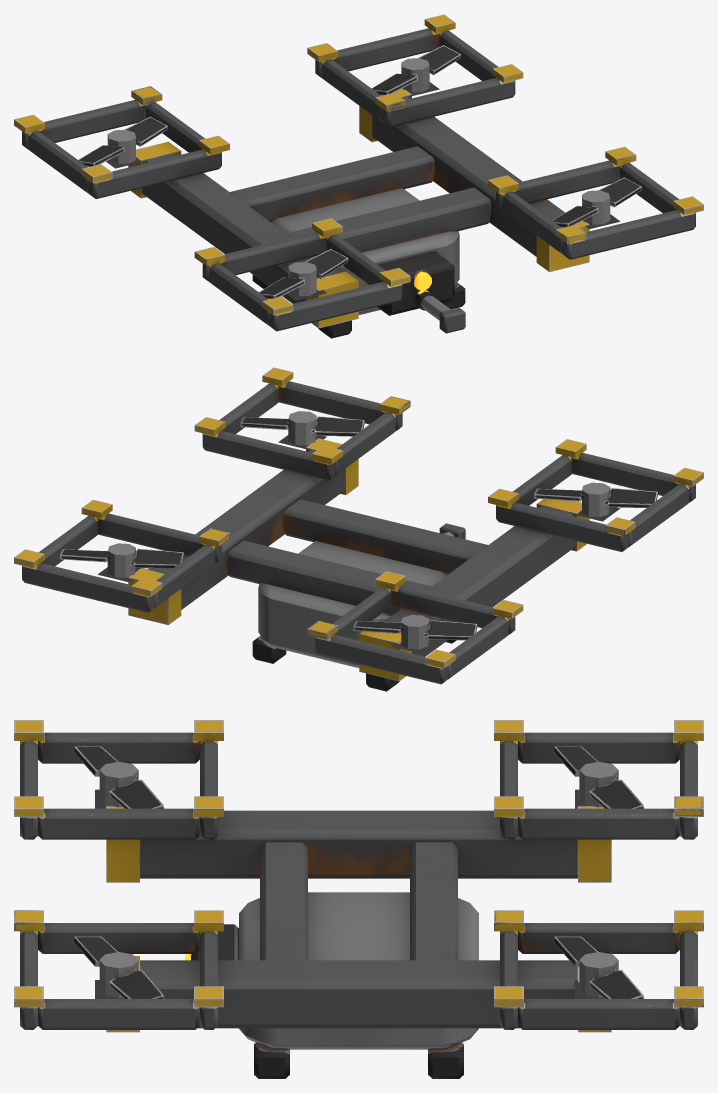
The model's file is FlyingDrone_LOD1.glb.
3 views of the same model, one above another, from view 1: azimuth 30°, elevation 25°; view 2: azimuth 150°, elevation 25°; view 3: azimuth 270°, elevation 25° (orthographic). The views are drawn at different scales.
Parts seen in each view (by area): view 1: FlyingDrone_LOD1; view 2: FlyingDrone_LOD1; view 3: FlyingDrone_LOD1.
Part boxes in pixels (<box>): FlyingDrone_LOD1: <box>14,14,703,338</box>; FlyingDrone_LOD1: <box>14,367,703,691</box>; FlyingDrone_LOD1: <box>14,720,703,1078</box>.
Bounding box in the file's own units: 0.44 × 0.13 × 0.46.
1 material, 1 textured.
